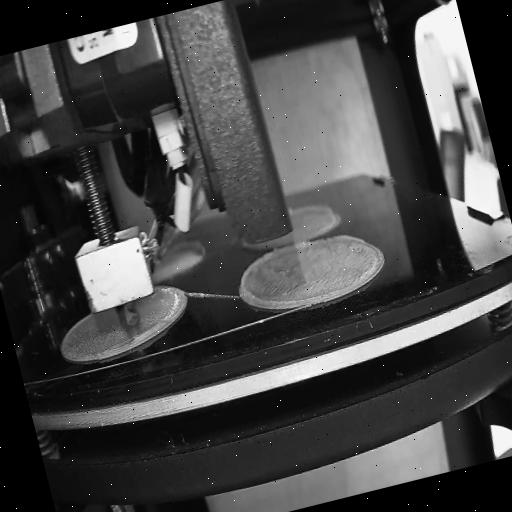over_extrusion: (234, 240, 326, 318), (290, 195, 336, 229), (330, 224, 368, 254), (172, 236, 206, 262)
